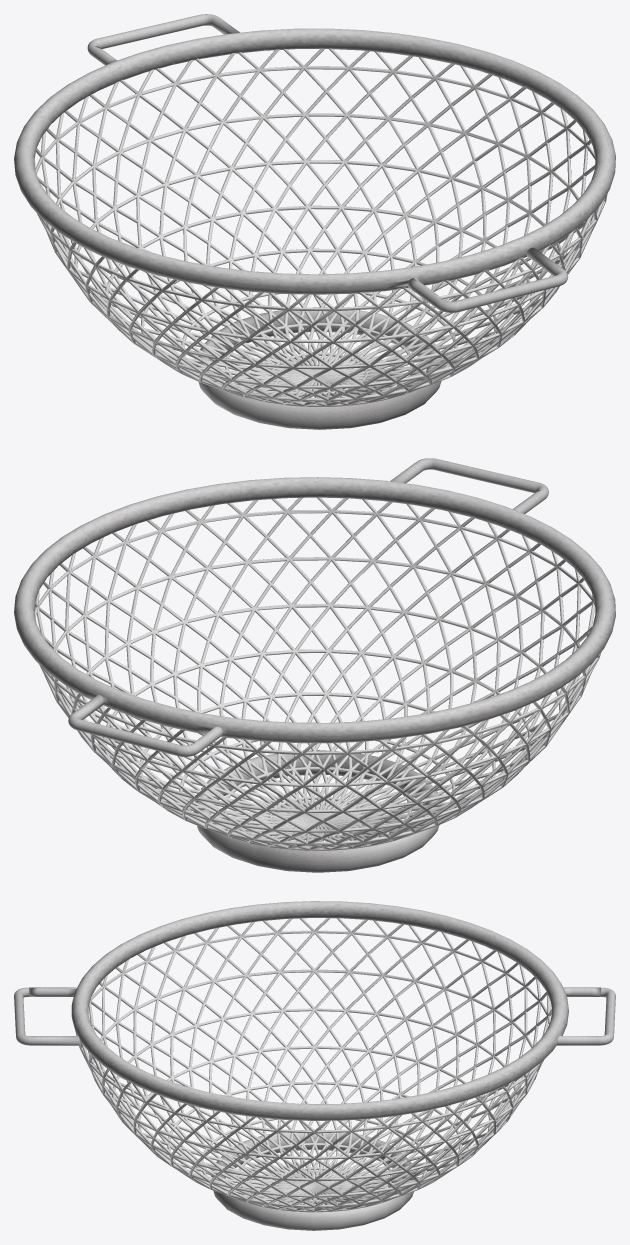
Rendered from Сито.fbx.
3 renders of one model, top to bottom at view 1: azimuth 30°, elevation 25°; view 2: azimuth 150°, elevation 25°; view 3: azimuth 270°, elevation 25°, orthographic. The views are drawn at different scales.
Parts seen in each view (by area): view 1: Shape001, Torus002; view 2: Shape001, Torus002; view 3: Shape001, Torus002.
Part boxes in pixels (x1=…): Shape001: x1=34, y1=48, x2=607, y2=406; Torus002: x1=14, y1=14, x2=615, y2=429; Shape001: x1=34, y1=497, x2=601, y2=850; Torus002: x1=14, y1=458, x2=615, y2=872; Shape001: x1=75, y1=918, x2=551, y2=1212; Torus002: x1=14, y1=901, x2=615, y2=1230.
Bounding box in the file's own units: 52.72 × 21.79 × 63.8.
Materials: 2 (2 with a texture image).
